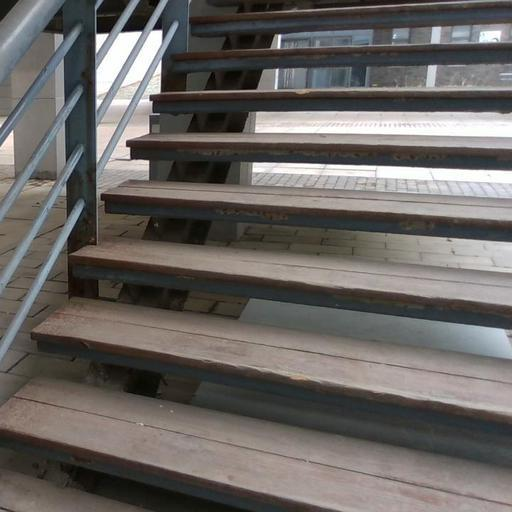stairs: (103, 39, 511, 240), (0, 379, 511, 511), (70, 237, 511, 328), (102, 180, 511, 240), (128, 133, 511, 169), (190, 0, 511, 36), (151, 87, 511, 114), (0, 469, 147, 511)
